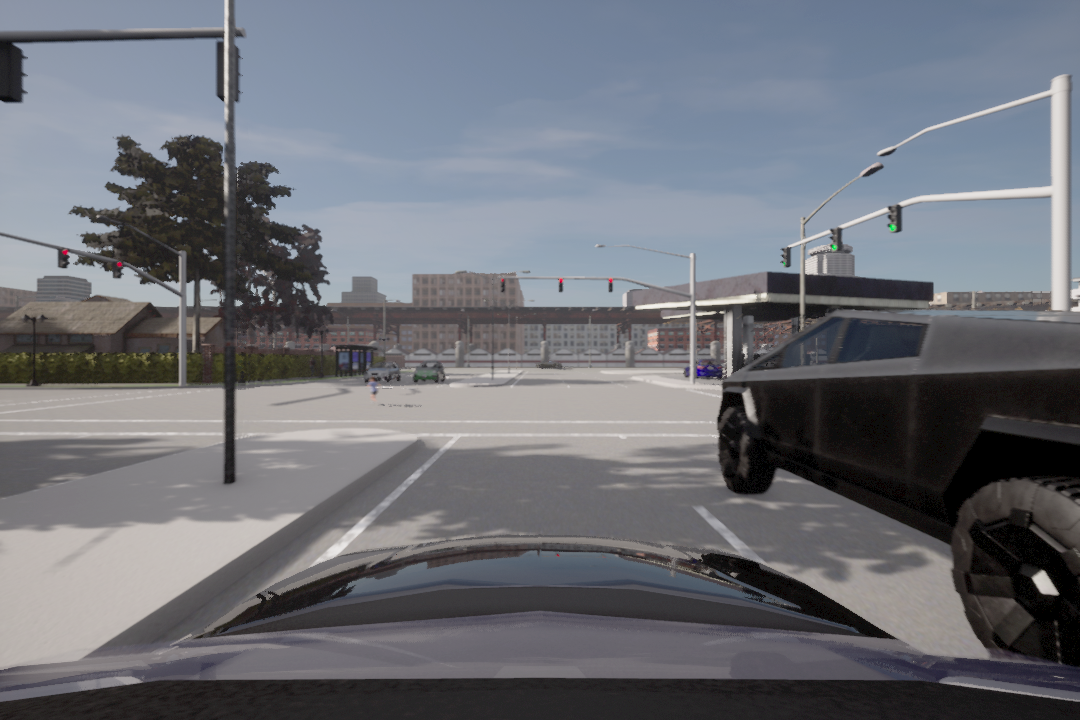TrafficLight: (886, 197, 902, 233), (828, 226, 842, 254), (781, 245, 794, 267), (607, 274, 616, 294), (499, 274, 508, 293), (556, 275, 564, 295)
